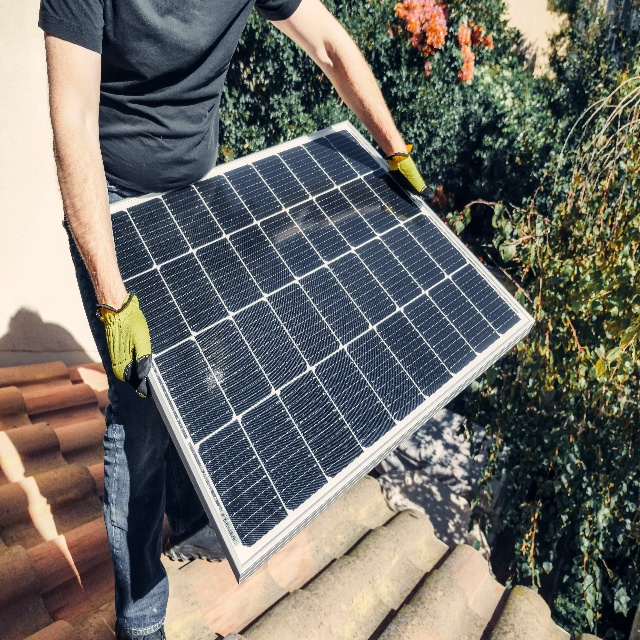Guantes: (96, 290, 150, 395), (387, 141, 430, 195)
